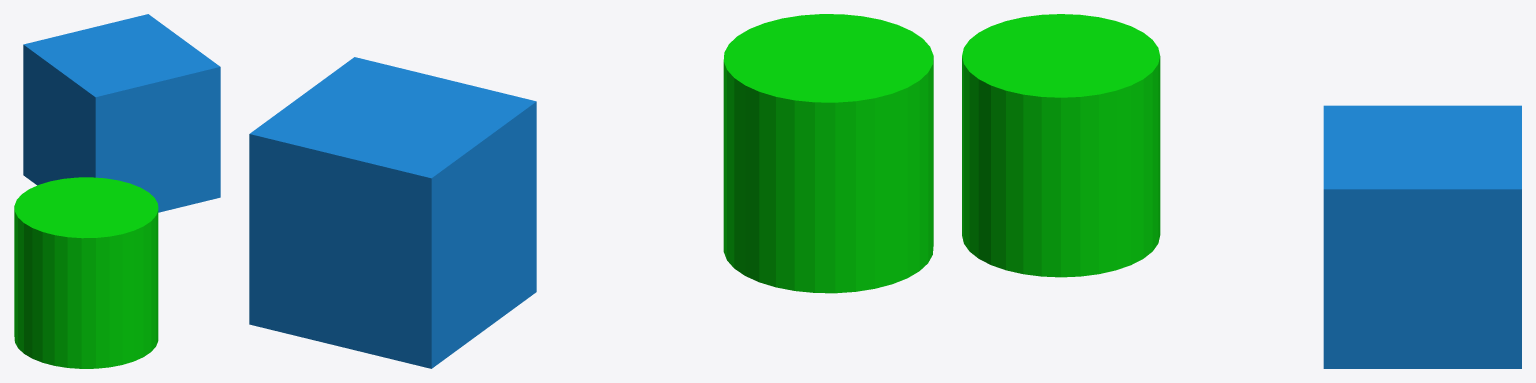
3 renders of one model, left to right at view 1: azimuth 30°, elevation 25°; view 2: azimuth 150°, elevation 25°; view 3: azimuth 270°, elevation 25°, orthographic. The views are drawn at different scales.
Visible parts, largest first — view 1: Cube, Cylinder; view 2: Cube, Cylinder; view 3: Cube, Cylinder.
Part boxes in pixels (x1,y1,x2,y2): Cube: (23, 14, 220, 212); Cylinder: (14, 177, 158, 368); Cube: (249, 57, 536, 368); Cylinder: (723, 14, 933, 293); Cube: (1323, 105, 1521, 368); Cylinder: (962, 14, 1160, 277).
Size of the model in its own units: 4.67 by 2.23 by 5.65.
